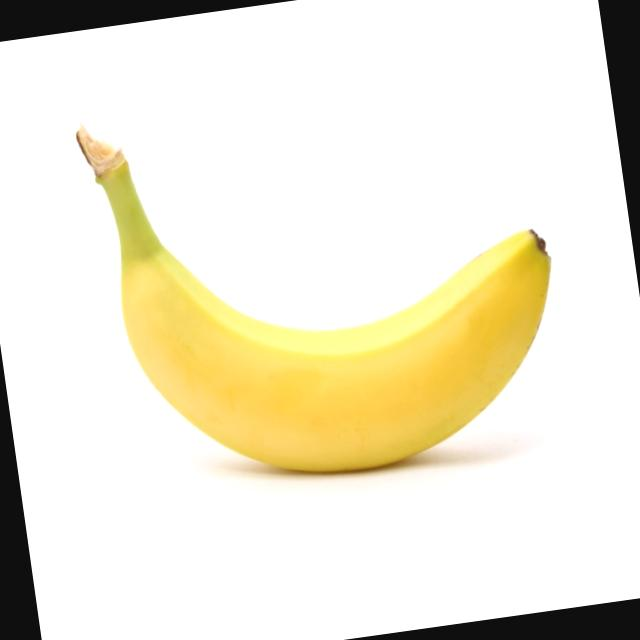banana: (105, 190, 583, 542)
